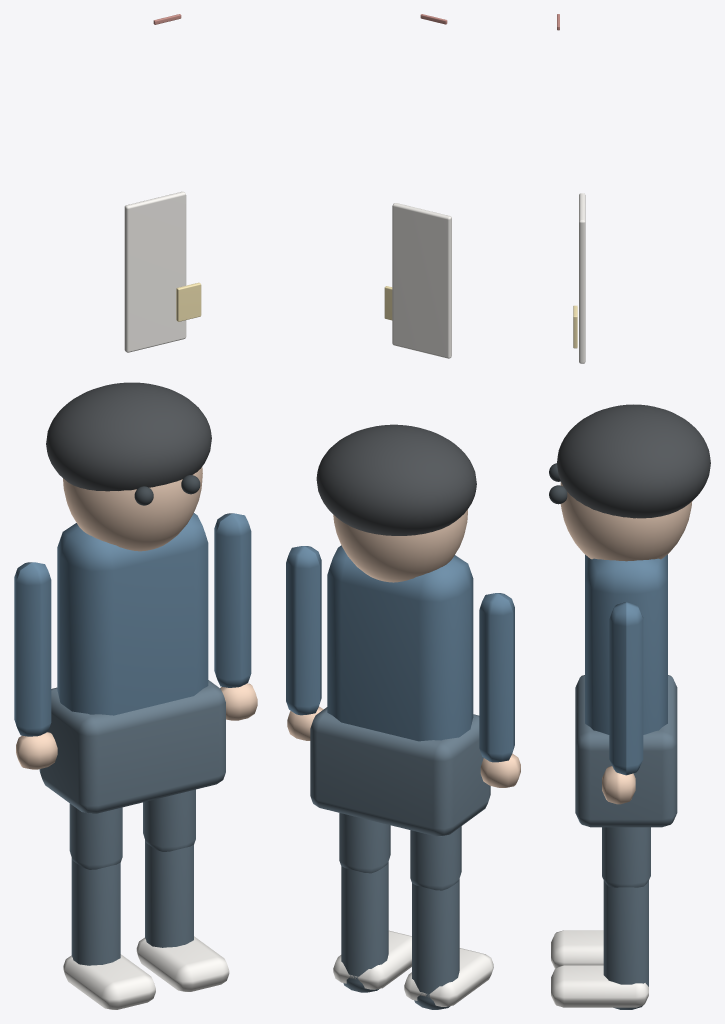
File: character.glb
The picture shows the model from 3 angles, left to right: view 1: azimuth 30°, elevation 25°; view 2: azimuth 150°, elevation 25°; view 3: azimuth 270°, elevation 25°; orthographic projection. The views are drawn at different scales.
Visible parts, largest first — view 1: body, skirt, hair, shirt_front, head, leftArm, rightArm, leftShin, rightShin, rightShoe, leftShoe, leftThigh (+4 smaller); view 2: body, skirt, hair, shirt_front, leftArm, rightArm, head, rightShin, leftShin, leftThigh, rightThigh, leftShoe (+3 smaller); view 3: hair, body, skirt, rightArm, head, rightShin, rightShoe, rightThigh, leftShoe, shirt_front, rightHand.
Part boxes in pixels (x1=…): body: x1=57, y1=513, x2=208, y2=715; skirt: x1=39, y1=680, x2=225, y2=813; hair: x1=46, y1=382, x2=211, y2=491; shirt_front: x1=124, y1=191, x2=186, y2=352; head: x1=63, y1=467, x2=202, y2=551; leftArm: x1=14, y1=562, x2=51, y2=736; rightArm: x1=214, y1=513, x2=251, y2=687; leftShin: x1=71, y1=858, x2=120, y2=965; rightShin: x1=145, y1=840, x2=193, y2=947; rightShoe: x1=136, y1=936, x2=229, y2=991; leftShoe: x1=63, y1=954, x2=155, y2=1009; leftThigh: x1=69, y1=803, x2=122, y2=869; body: x1=327, y1=545, x2=473, y2=741; skirt: x1=310, y1=707, x2=490, y2=836; hair: x1=316, y1=424, x2=476, y2=535; shirt_front: x1=392, y1=203, x2=451, y2=358; leftArm: x1=479, y1=593, x2=514, y2=762; rightArm: x1=286, y1=546, x2=321, y2=715; head: x1=333, y1=509, x2=467, y2=582; rightShin: x1=341, y1=862, x2=388, y2=992; leftShin: x1=412, y1=879, x2=459, y2=1009; leftThigh: x1=410, y1=826, x2=461, y2=890; rightThigh: x1=339, y1=813, x2=390, y2=873; leftShoe: x1=404, y1=948, x2=493, y2=1006; hair: x1=557, y1=404, x2=710, y2=518; body: x1=585, y1=554, x2=667, y2=734; skirt: x1=575, y1=675, x2=677, y2=827; rightArm: x1=609, y1=602, x2=643, y2=775; head: x1=560, y1=482, x2=692, y2=561; rightShin: x1=603, y1=880, x2=648, y2=1009; rightShoe: x1=551, y1=965, x2=648, y2=1007; rightThigh: x1=602, y1=827, x2=650, y2=887; leftShoe: x1=551, y1=930, x2=603, y2=968; shirt_front: x1=579, y1=193, x2=585, y2=363; rightHand: x1=602, y1=766, x2=635, y2=804.
Size of the model in its own units: 0.71 by 2.84 by 0.4293.
